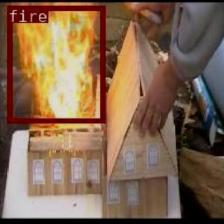fire: (7, 5, 104, 122)
